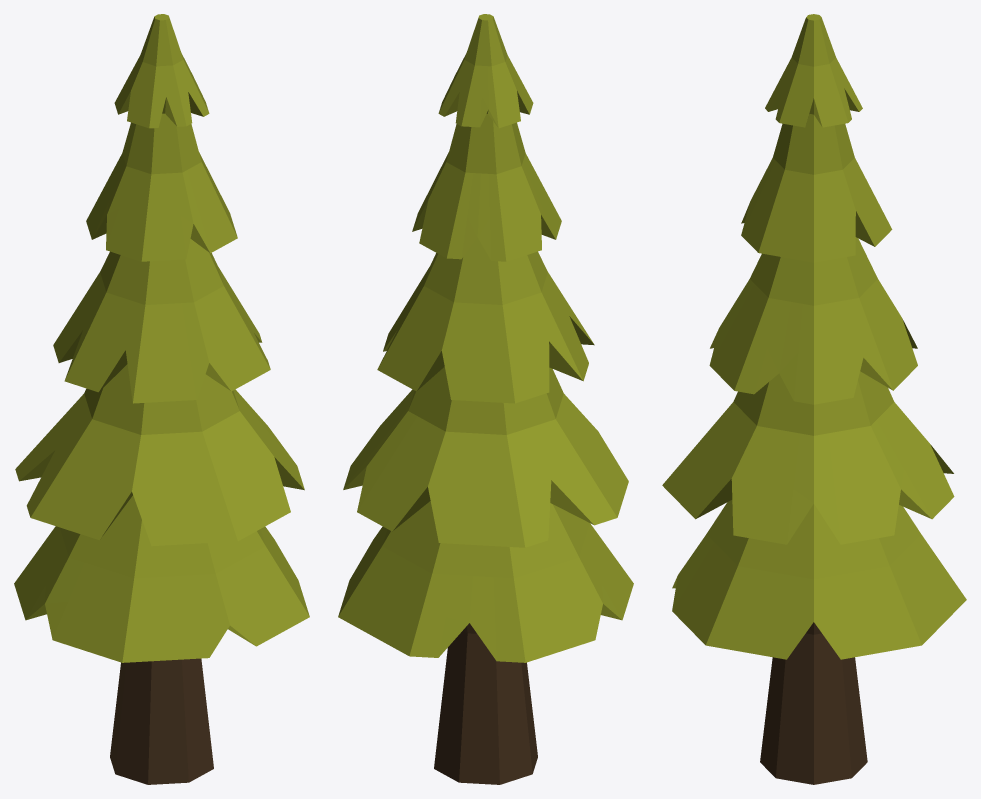
Rendered from Tree 3.fbx.
The picture shows the model from 3 angles, left to right: view 1: azimuth 30°, elevation 25°; view 2: azimuth 150°, elevation 25°; view 3: azimuth 270°, elevation 25°; orthographic projection.
Parts seen in each view (by area): view 1: Cone.002; view 2: Cone.002; view 3: Cone.002.
Boxes of the visible parts, box(x1,y1,x2,y2) form: Cone.002: box(14, 14, 309, 784); Cone.002: box(338, 14, 633, 784); Cone.002: box(662, 14, 966, 784).
Bounding box in the file's own units: 77.88 × 218 × 80.85.
